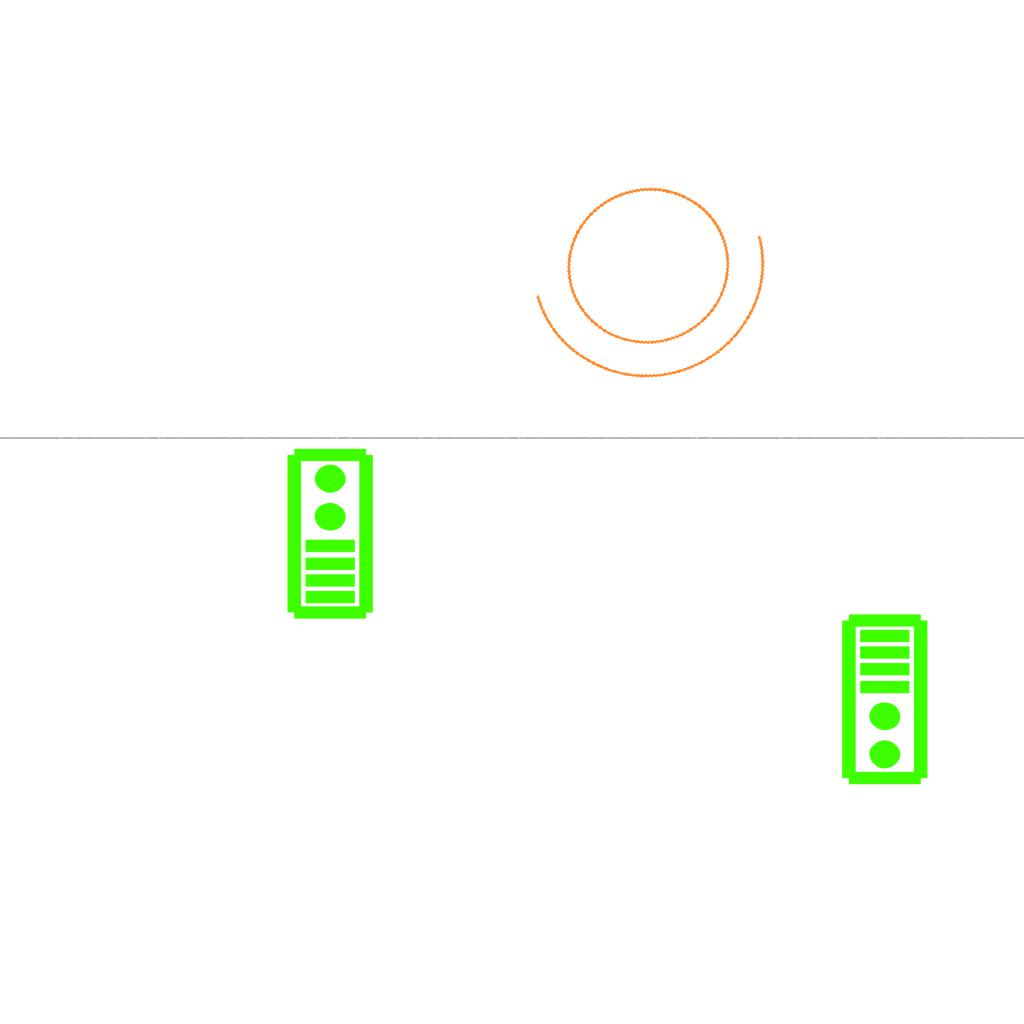Gegensprechanlage_mit_Video: (281, 445, 376, 621), (839, 612, 934, 788)
Scheinwerfer_fuer_Alarmbeleuchtung: (500, 130, 814, 417)
